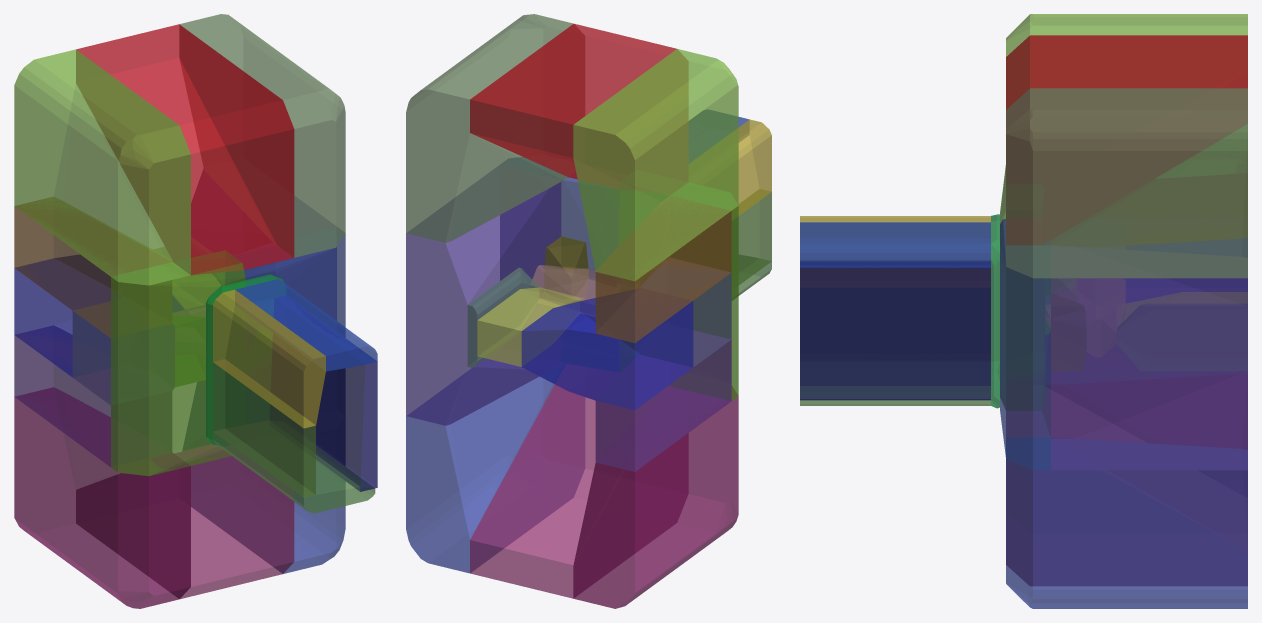
File: Tool_holder_spatula.obj
3 views of the same model, side by side, from view 1: azimuth 30°, elevation 25°; view 2: azimuth 150°, elevation 25°; view 3: azimuth 270°, elevation 25° (orthographic). The views are drawn at different scales.
Visible parts, largest first — view 1: Shape_IndexedFaceSet.013_Shape_IndexedFaceSet.250, Shape_IndexedFaceSet.012_Shape_IndexedFaceSet.249, Shape_IndexedFaceSet.016_Shape_IndexedFaceSet.253, Shape_IndexedFaceSet.003_Shape_IndexedFaceSet.240, Shape_IndexedFaceSet.004_Shape_IndexedFaceSet.241, Shape_IndexedFaceSet.011_Shape_IndexedFaceSet.248, Shape_IndexedFaceSet.006_Shape_IndexedFaceSet.243, Shape_IndexedFaceSet.007_Shape_IndexedFaceSet.244, Shape_IndexedFaceSet.015_Shape_IndexedFaceSet.252, Shape_IndexedFaceSet.010_Shape_IndexedFaceSet.247, Shape_IndexedFaceSet.008_Shape_IndexedFaceSet.245, Shape_IndexedFaceSet.018_Shape_IndexedFaceSet.255 (+9 smaller); view 2: Shape_IndexedFaceSet.016_Shape_IndexedFaceSet.253, Shape_IndexedFaceSet.004_Shape_IndexedFaceSet.241, Shape_IndexedFaceSet.006_Shape_IndexedFaceSet.243, Shape_IndexedFaceSet.012_Shape_IndexedFaceSet.249, Shape_IndexedFaceSet.019_Shape_IndexedFaceSet.256, Shape_IndexedFaceSet.013_Shape_IndexedFaceSet.250, Shape_IndexedFaceSet.003_Shape_IndexedFaceSet.240, Shape_IndexedFaceSet.009_Shape_IndexedFaceSet.246, Shape_IndexedFaceSet.015_Shape_IndexedFaceSet.252, Shape_IndexedFaceSet.010_Shape_IndexedFaceSet.247, Shape_IndexedFaceSet.014_Shape_IndexedFaceSet.251, Shape_IndexedFaceSet.011_Shape_IndexedFaceSet.248 (+9 smaller); view 3: Shape_IndexedFaceSet.016_Shape_IndexedFaceSet.253, Shape_IndexedFaceSet.019_Shape_IndexedFaceSet.256, Shape_IndexedFaceSet.006_Shape_IndexedFaceSet.243, Shape_IndexedFaceSet.013_Shape_IndexedFaceSet.250, Shape_IndexedFaceSet.004_Shape_IndexedFaceSet.241, Shape_IndexedFaceSet.007_Shape_IndexedFaceSet.244, Shape_IndexedFaceSet.012_Shape_IndexedFaceSet.249, Shape_IndexedFaceSet.018_Shape_IndexedFaceSet.255, Shape_IndexedFaceSet.008_Shape_IndexedFaceSet.245, Shape_IndexedFaceSet.014_Shape_IndexedFaceSet.251, Shape_IndexedFaceSet.003_Shape_IndexedFaceSet.240, Shape_IndexedFaceSet.020_Shape_IndexedFaceSet.257 (+10 smaller).
Boxes of the visible parts, x1,y1,x2,y2 form: Shape_IndexedFaceSet.013_Shape_IndexedFaceSet.250: (76, 24, 294, 275); Shape_IndexedFaceSet.012_Shape_IndexedFaceSet.249: (14, 49, 190, 285); Shape_IndexedFaceSet.016_Shape_IndexedFaceSet.253: (179, 14, 345, 257); Shape_IndexedFaceSet.003_Shape_IndexedFaceSet.240: (14, 387, 190, 608); Shape_IndexedFaceSet.004_Shape_IndexedFaceSet.241: (76, 444, 294, 599); Shape_IndexedFaceSet.011_Shape_IndexedFaceSet.248: (111, 250, 245, 475); Shape_IndexedFaceSet.006_Shape_IndexedFaceSet.243: (183, 380, 345, 573); Shape_IndexedFaceSet.007_Shape_IndexedFaceSet.244: (270, 295, 377, 491); Shape_IndexedFaceSet.015_Shape_IndexedFaceSet.252: (14, 197, 171, 338); Shape_IndexedFaceSet.010_Shape_IndexedFaceSet.247: (14, 326, 171, 466); Shape_IndexedFaceSet.008_Shape_IndexedFaceSet.245: (213, 289, 325, 428); Shape_IndexedFaceSet.018_Shape_IndexedFaceSet.255: (213, 359, 315, 497); Shape_IndexedFaceSet.016_Shape_IndexedFaceSet.253: (406, 14, 584, 242); Shape_IndexedFaceSet.004_Shape_IndexedFaceSet.241: (470, 364, 687, 598); Shape_IndexedFaceSet.006_Shape_IndexedFaceSet.243: (406, 359, 584, 573); Shape_IndexedFaceSet.012_Shape_IndexedFaceSet.249: (573, 49, 738, 281); Shape_IndexedFaceSet.019_Shape_IndexedFaceSet.256: (406, 165, 561, 425); Shape_IndexedFaceSet.013_Shape_IndexedFaceSet.250: (470, 23, 687, 188); Shape_IndexedFaceSet.003_Shape_IndexedFaceSet.240: (573, 387, 738, 608); Shape_IndexedFaceSet.009_Shape_IndexedFaceSet.246: (521, 288, 693, 409); Shape_IndexedFaceSet.015_Shape_IndexedFaceSet.252: (595, 196, 731, 342); Shape_IndexedFaceSet.010_Shape_IndexedFaceSet.247: (595, 331, 731, 471); Shape_IndexedFaceSet.014_Shape_IndexedFaceSet.251: (500, 157, 619, 371); Shape_IndexedFaceSet.011_Shape_IndexedFaceSet.248: (619, 183, 738, 400); Shape_IndexedFaceSet.016_Shape_IndexedFaceSet.253: (1006, 88, 1247, 278); Shape_IndexedFaceSet.019_Shape_IndexedFaceSet.256: (1051, 247, 1247, 470); Shape_IndexedFaceSet.006_Shape_IndexedFaceSet.243: (1006, 438, 1247, 608); Shape_IndexedFaceSet.013_Shape_IndexedFaceSet.250: (1006, 35, 1247, 244); Shape_IndexedFaceSet.004_Shape_IndexedFaceSet.241: (1006, 387, 1247, 585); Shape_IndexedFaceSet.007_Shape_IndexedFaceSet.244: (800, 261, 990, 400); Shape_IndexedFaceSet.012_Shape_IndexedFaceSet.249: (1006, 14, 1247, 177); Shape_IndexedFaceSet.018_Shape_IndexedFaceSet.255: (800, 288, 990, 359); Shape_IndexedFaceSet.008_Shape_IndexedFaceSet.245: (800, 216, 990, 286); Shape_IndexedFaceSet.014_Shape_IndexedFaceSet.251: (1000, 219, 1050, 470); Shape_IndexedFaceSet.003_Shape_IndexedFaceSet.240: (1045, 374, 1247, 497); Shape_IndexedFaceSet.020_Shape_IndexedFaceSet.257: (800, 222, 990, 267).
Size of the model in its own units: 4.07 by 8.04 by 6.56.
